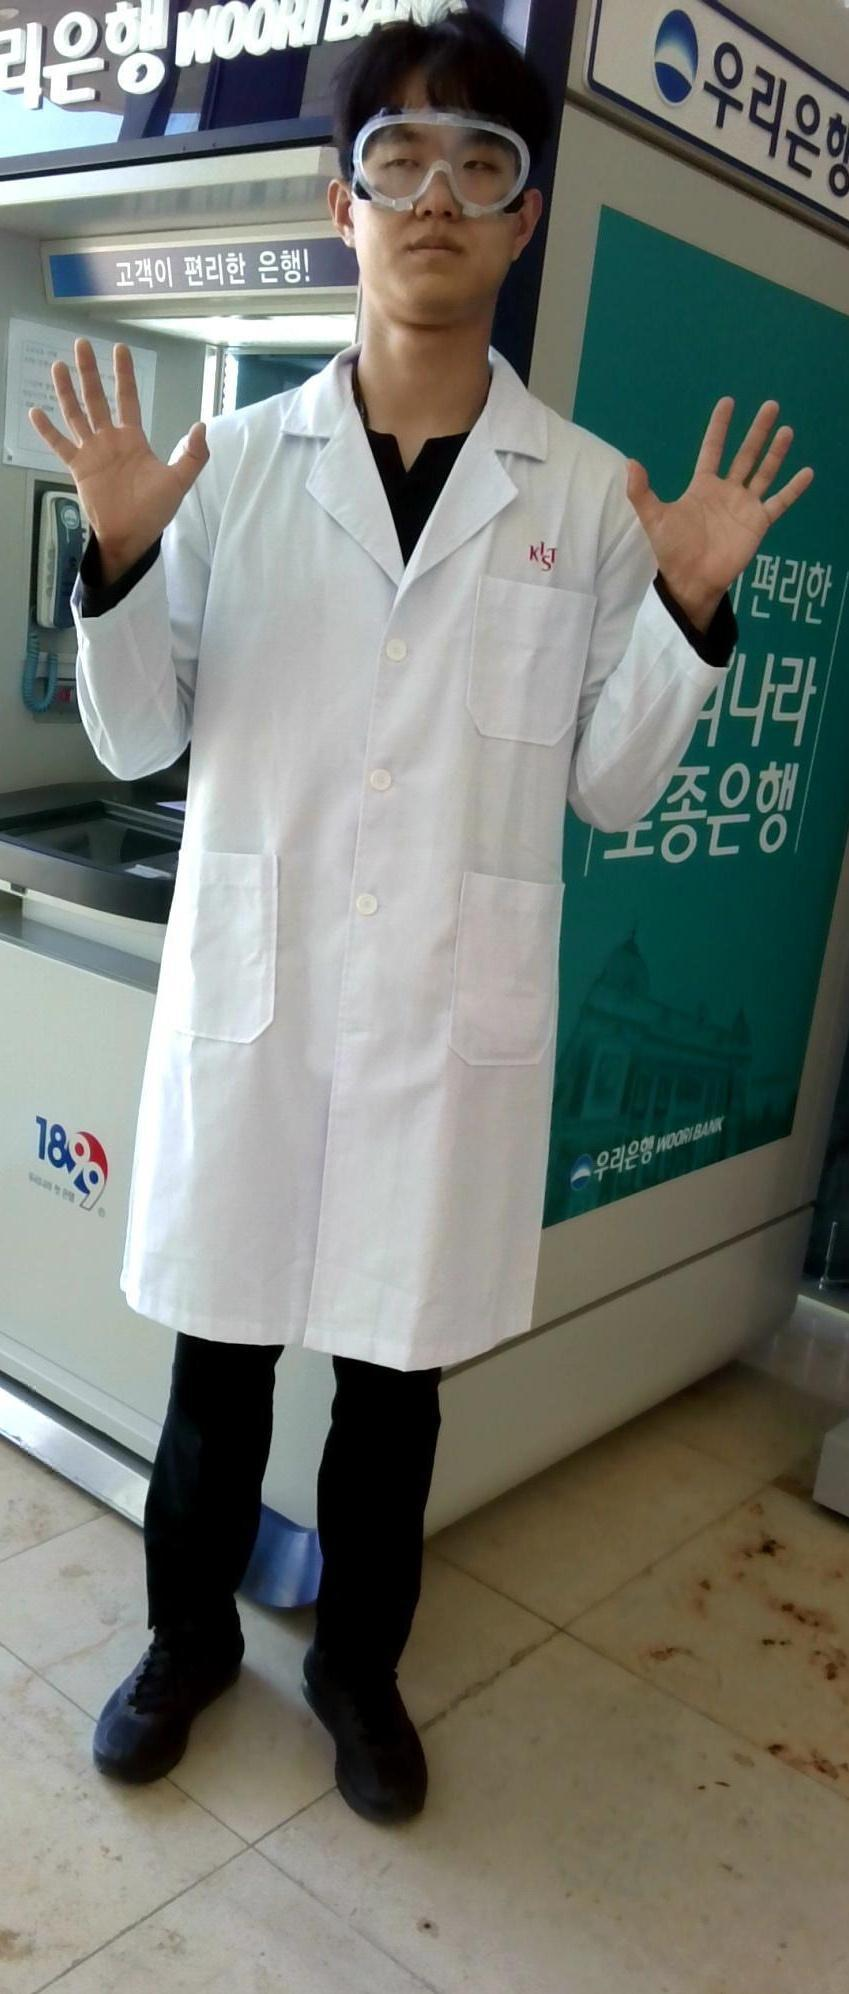lab_coat: (178, 441, 627, 1331)
